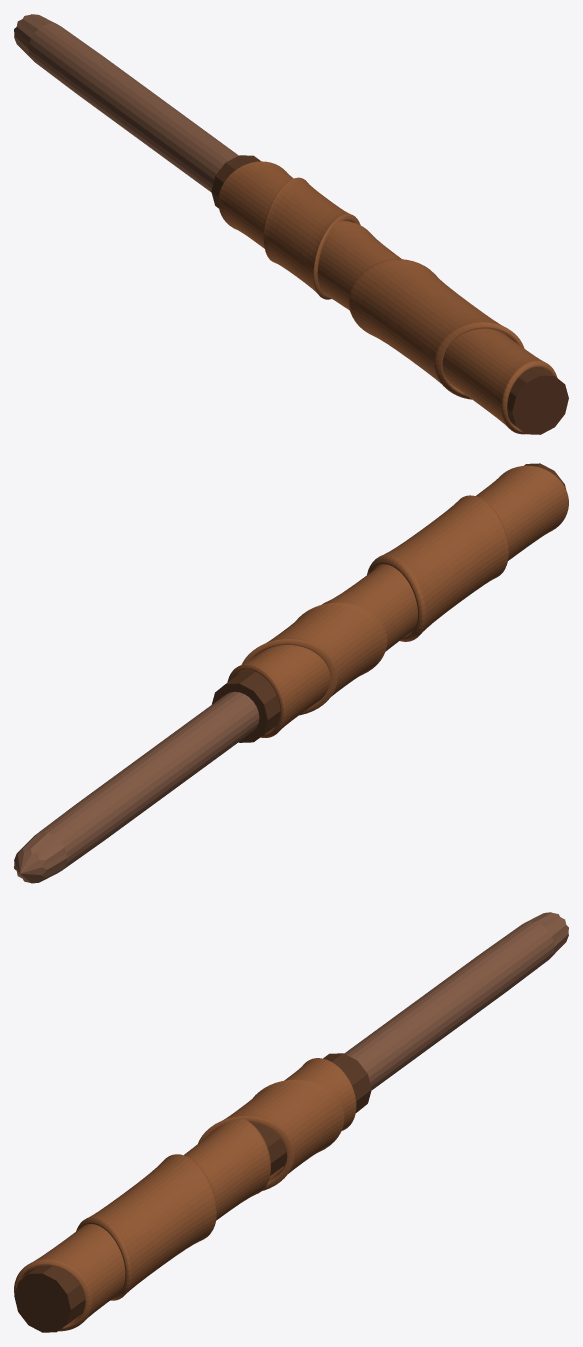
File: Wand 8.glb
3 renders of one model, top to bottom at view 1: azimuth 30°, elevation 25°; view 2: azimuth 150°, elevation 25°; view 3: azimuth 330°, elevation 25°, orthographic.
Parts seen in each view (by area): view 1: GeneratedWand; view 2: GeneratedWand; view 3: GeneratedWand.
Part boxes in pixels (x1,y1,x2,y2): GeneratedWand: [14, 14, 568, 434]; GeneratedWand: [14, 463, 568, 883]; GeneratedWand: [14, 912, 568, 1332].
Size of the model in its own units: 0.0408 by 0.0408 by 0.4815.
